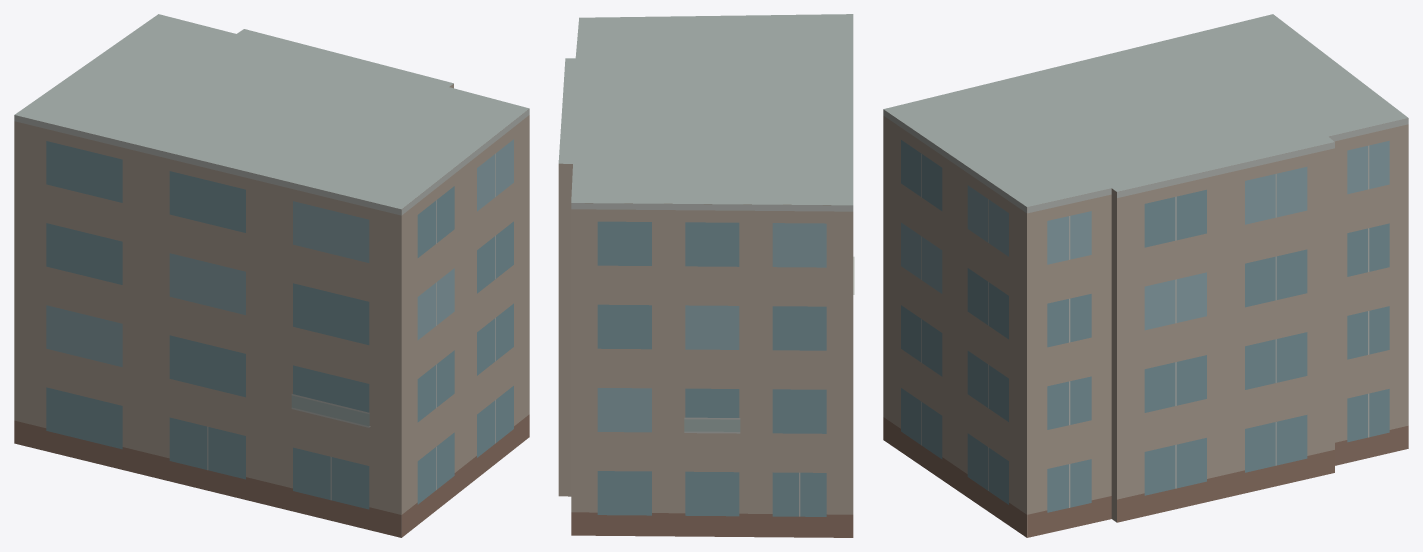
Rendered from survey-upis-32694481.glb.
3 renders of one model, left to right at view 1: azimuth 30°, elevation 25°; view 2: azimuth 150°, elevation 25°; view 3: azimuth 270°, elevation 25°, orthographic.
Parts seen in each view (by area): view 1: survey-upis-32694481.tmp; view 2: survey-upis-32694481.tmp; view 3: survey-upis-32694481.tmp.
Boxes of the visible parts, x1,y1,x2,y2 form: survey-upis-32694481.tmp: (14, 14, 529, 537); survey-upis-32694481.tmp: (558, 14, 854, 537); survey-upis-32694481.tmp: (883, 14, 1408, 537).
Size of the model in its own units: 16.04 by 12.8 by 18.44.
